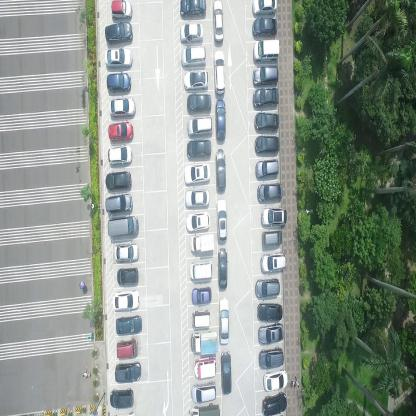car: (190, 328, 218, 357), (107, 215, 139, 238), (104, 21, 133, 46), (111, 289, 140, 313), (262, 391, 287, 416), (213, 49, 226, 97), (262, 368, 288, 392), (257, 322, 284, 345), (104, 171, 132, 193), (184, 164, 212, 186), (252, 40, 280, 62), (218, 294, 230, 345), (104, 194, 133, 215), (189, 233, 214, 257), (258, 346, 283, 370), (252, 64, 278, 87), (115, 361, 141, 384), (260, 251, 286, 274), (191, 380, 217, 403), (107, 122, 134, 144), (186, 116, 213, 138), (260, 205, 287, 227), (115, 314, 142, 336), (108, 98, 136, 119), (252, 87, 280, 108), (104, 48, 133, 68), (255, 276, 280, 299), (107, 145, 133, 167), (180, 46, 206, 68), (257, 182, 283, 204), (185, 212, 210, 234), (194, 355, 216, 380), (113, 243, 139, 264), (183, 70, 209, 91), (251, 17, 278, 37), (256, 302, 283, 322), (220, 349, 232, 394), (188, 260, 212, 282), (110, 386, 134, 408), (184, 189, 209, 210), (254, 158, 279, 179), (186, 94, 212, 114), (254, 112, 280, 132), (215, 148, 226, 194), (116, 337, 138, 360), (180, 23, 204, 44), (106, 73, 131, 93), (186, 140, 211, 160), (216, 198, 227, 243), (254, 135, 280, 154), (179, 0, 206, 18), (213, 0, 224, 44), (215, 99, 226, 143), (111, 0, 132, 21), (190, 308, 211, 329), (261, 228, 282, 249), (217, 246, 227, 290), (190, 284, 212, 304), (191, 402, 221, 416), (117, 268, 138, 287), (252, 0, 278, 15)
